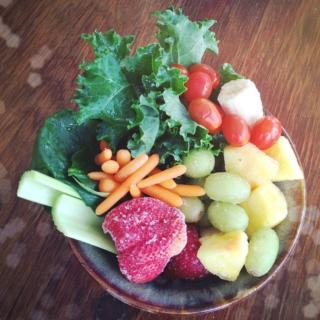tomato: (220, 114, 254, 149), (250, 115, 284, 148), (189, 98, 226, 127), (184, 71, 213, 101), (188, 63, 220, 86), (170, 64, 189, 86)
